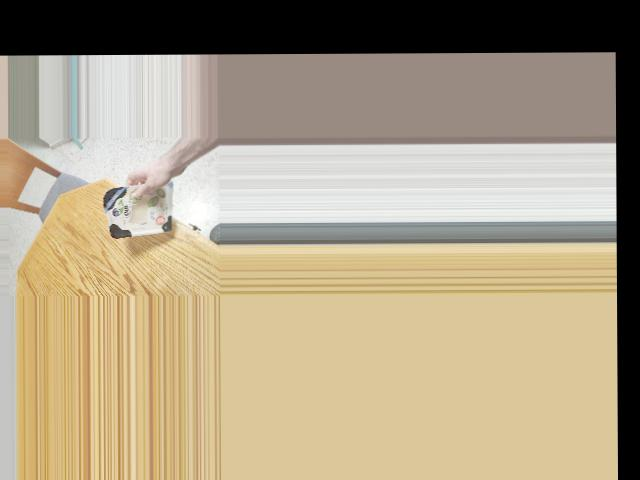cheese: (100, 181, 182, 232)
